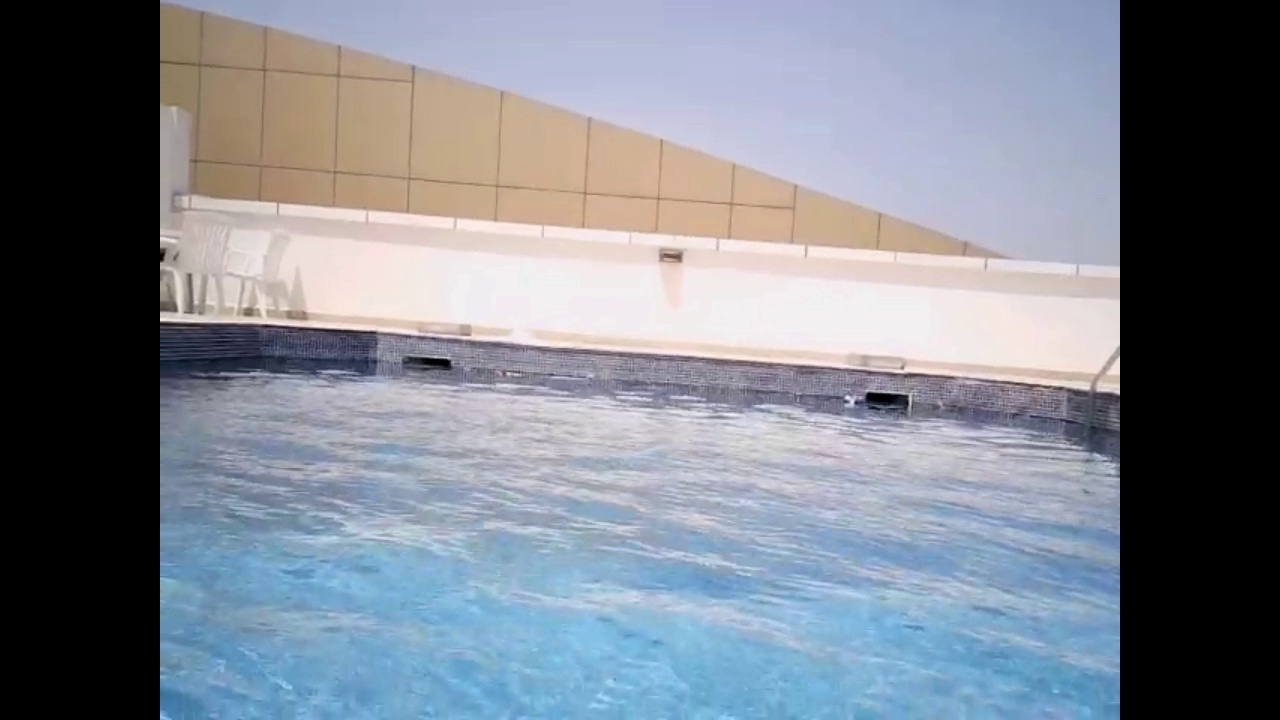debris: (838, 391, 863, 411)
